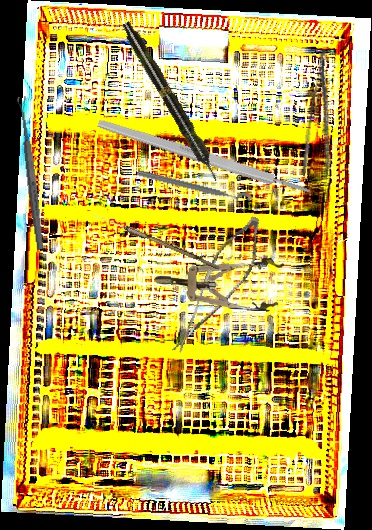Dressing Forceps: (299, 48, 349, 180)
Fixation Ring: (134, 166, 252, 213)
Handpiece: (118, 19, 224, 185)
Micro Scissor: (171, 206, 269, 369)
Scalpel Handle: (96, 117, 312, 198)
Speculum: (153, 251, 285, 313)
Surgical Spoon: (89, 211, 222, 270), (16, 95, 46, 251)
